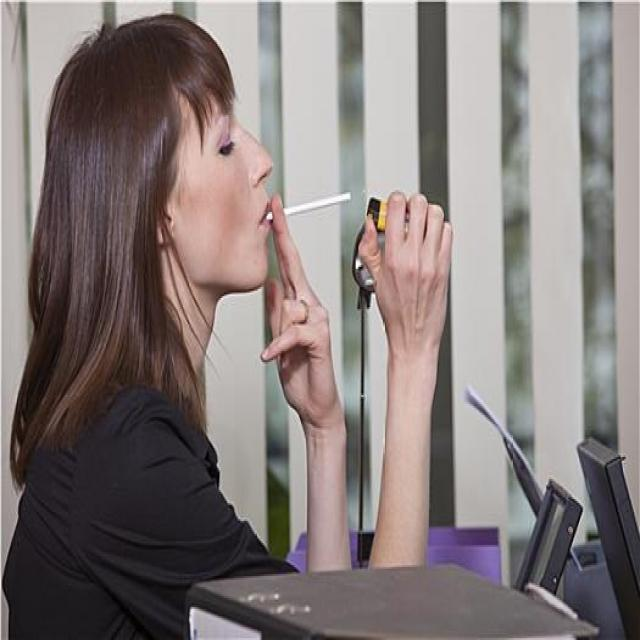smoke: (261, 190, 353, 222)
